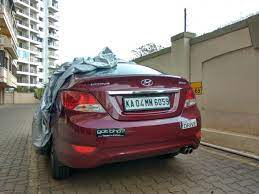number_plates: (124, 99, 170, 108)
